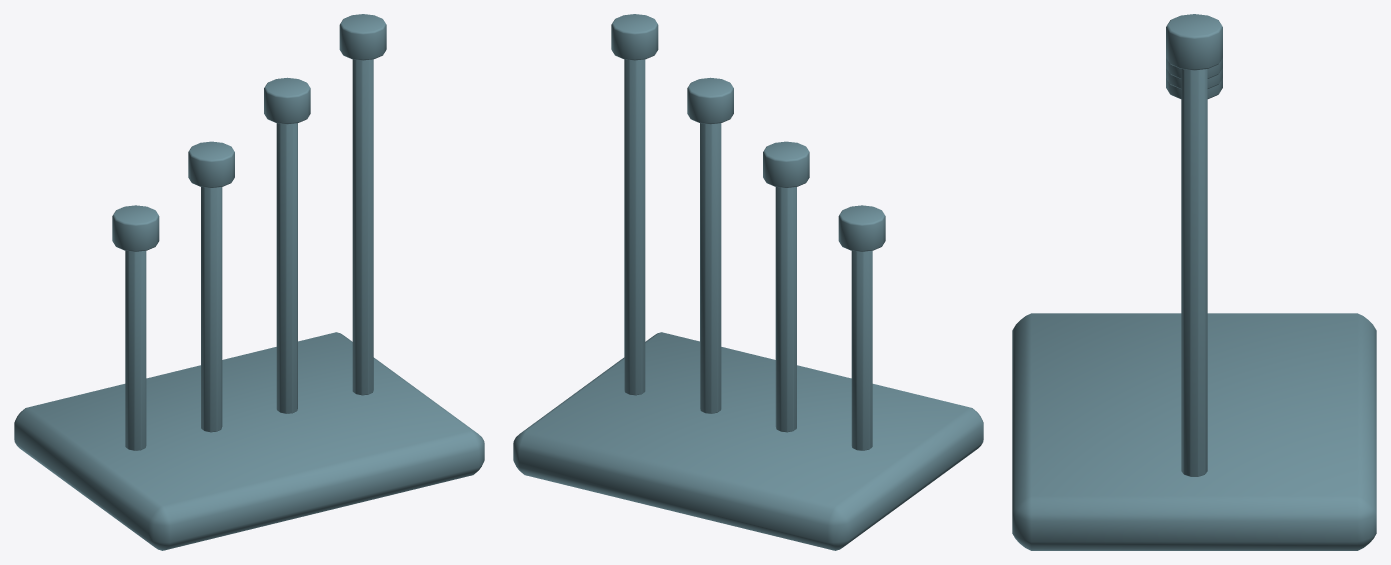
The model's file is VerticalFin.fbx.
3 renders of one model, left to right at view 1: azimuth 30°, elevation 25°; view 2: azimuth 150°, elevation 25°; view 3: azimuth 270°, elevation 25°, orthographic. The views are drawn at different scales.
Visible parts, largest first — view 1: Render_LOD0; view 2: Render_LOD0; view 3: Render_LOD0.
Part boxes in pixels (left/top/right/bottom): Render_LOD0: left=14, top=14, right=484, bottom=550; Render_LOD0: left=513, top=14, right=983, bottom=550; Render_LOD0: left=1012, top=14, right=1376, bottom=550.
Size of what is drawn, in the model's own units: 1.24 by 1.46 by 0.96.
